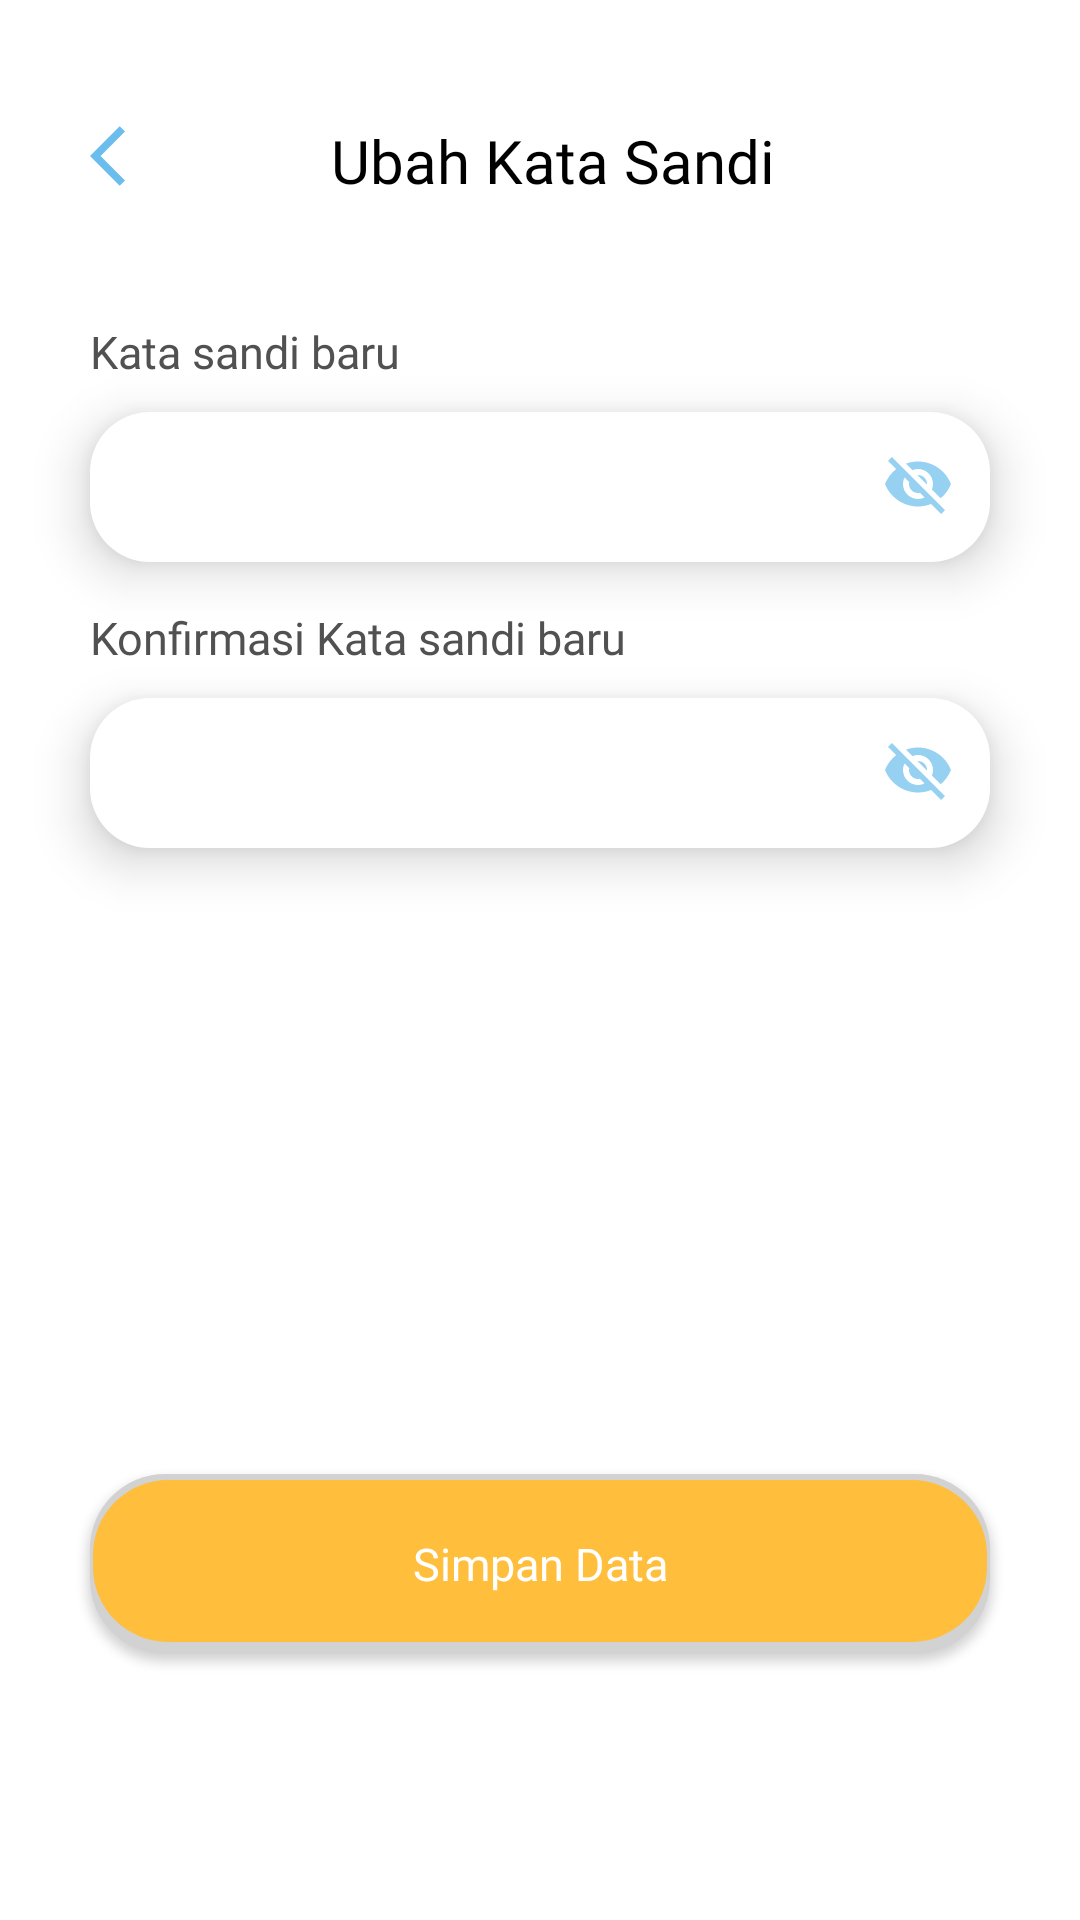

Screen size 1080px x 1920px. Icon name, then its center in pixels as (x=x, y=y):
arrowback: (x=107, y=156)
